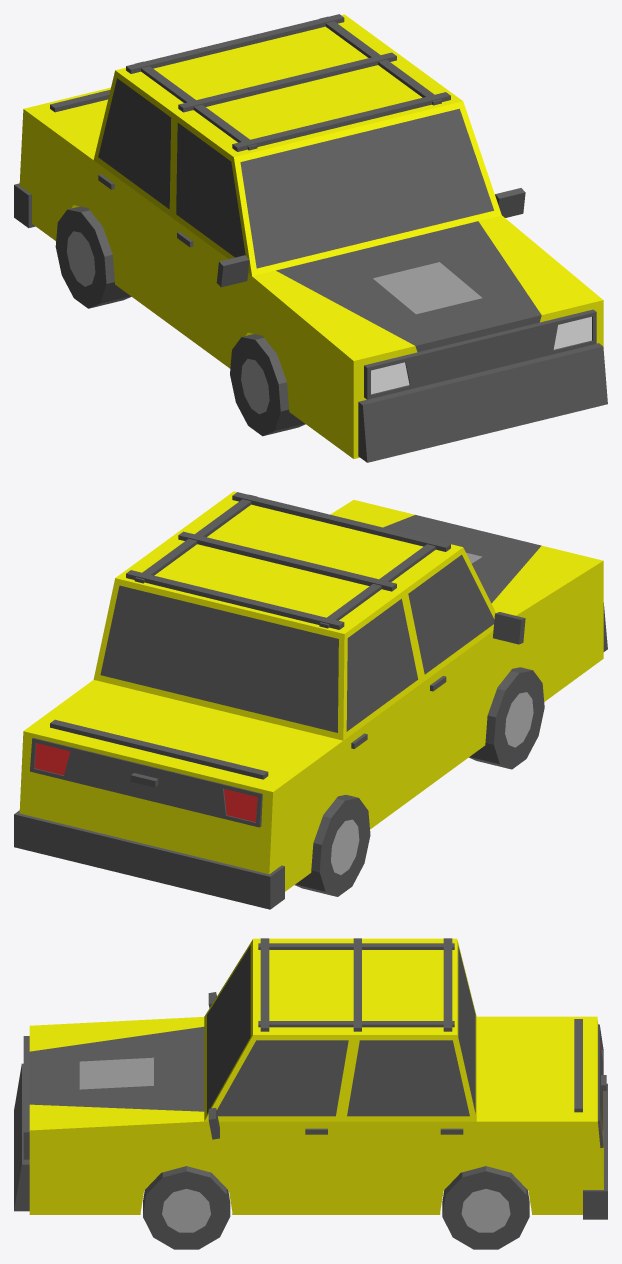
Rendered from SM_Car_01_01.FBX.
3 views of the same model, one above another, from view 1: azimuth 30°, elevation 25°; view 2: azimuth 150°, elevation 25°; view 3: azimuth 270°, elevation 25° (orthographic). The views are drawn at different scales.
Parts seen in each view (by area): view 1: SM_Car_01_01, SM_Wheel_RBack001, SM_Wheel_LFront001; view 2: SM_Car_01_01, SM_Wheel_LFront001, SM_Wheel_RBack001; view 3: SM_Car_01_01, SM_Wheel_LBack001, SM_Wheel_LFront002.
Part boxes in pixels (bbox=[...]): SM_Car_01_01: bbox=[14, 14, 607, 462]; SM_Wheel_RBack001: bbox=[55, 206, 131, 308]; SM_Wheel_LFront001: bbox=[230, 334, 305, 436]; SM_Car_01_01: bbox=[14, 491, 607, 909]; SM_Wheel_LFront001: bbox=[469, 667, 544, 769]; SM_Wheel_RBack001: bbox=[295, 795, 370, 896]; SM_Car_01_01: bbox=[14, 938, 607, 1219]; SM_Wheel_LBack001: bbox=[442, 1166, 529, 1249]; SM_Wheel_LFront002: bbox=[143, 1166, 230, 1249].
Size of the model in its own units: 1.7 by 1.32 by 3.37.
Materials: 1 (1 with a texture image).
